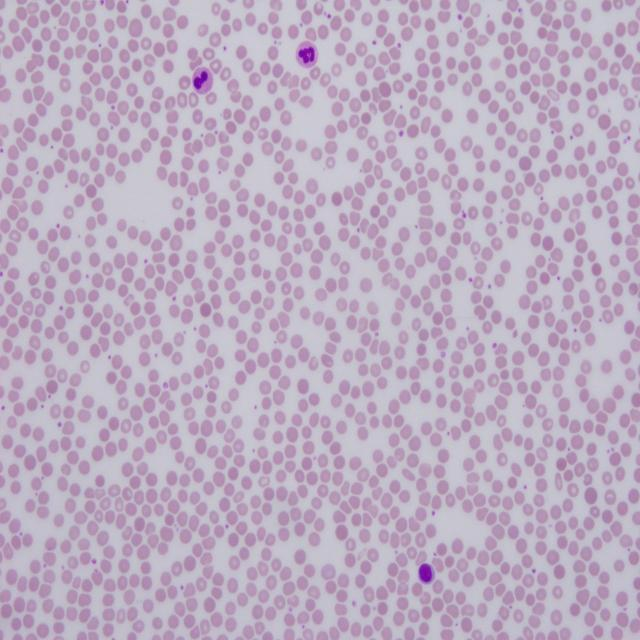cell: (296, 41, 318, 69), (192, 67, 212, 94)
